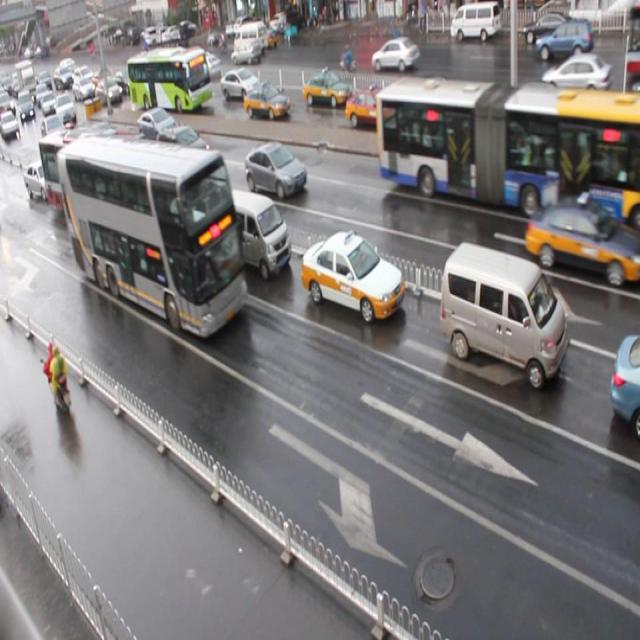car: (300, 229, 403, 321), (527, 194, 630, 282), (140, 188, 208, 252), (503, 77, 571, 132), (246, 142, 307, 202), (467, 98, 534, 150), (590, 94, 640, 160), (608, 330, 640, 432), (158, 127, 211, 178), (399, 79, 456, 119), (345, 84, 391, 132), (302, 69, 351, 108), (22, 160, 62, 204), (244, 82, 290, 120), (138, 108, 179, 144), (220, 66, 261, 102), (91, 122, 125, 164), (42, 115, 68, 150)
truck: (438, 240, 568, 389), (215, 188, 290, 284)
van: (373, 76, 640, 240), (57, 133, 248, 341), (38, 127, 154, 235), (128, 46, 210, 109)
